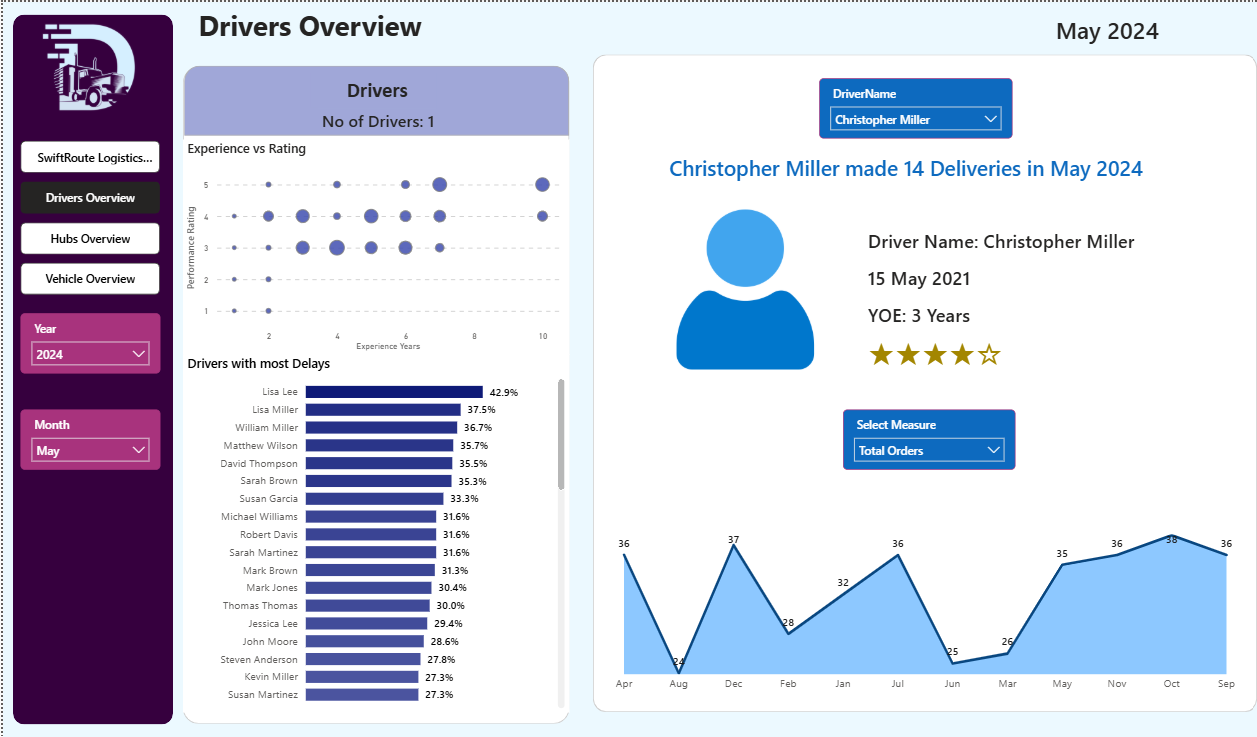

This screenshot's page, from the dashboard's own definition file:
{"tool":"powerbi","page":{"name":"Drivers Overview","canvas":[1450,850],"ordinal":1},"visuals":[{"type":"shape","box":[11.5,14.4,184.8,820],"z":0},{"type":"textbox","box":[220.7,0,503.6,60.6],"z":1000},{"type":"slicer","fields":{"Values":["Date Table.Year"]},"box":[20.2,360.1,161.7,70],"z":2000},{"type":"slicer","fields":{"Values":["Date Table.Month"]},"box":[20.2,470.4,161.7,70],"z":3000},{"type":"cardVisual","fields":{"Data":["Hubs.No of Hubs"]},"box":[298.2,94.7,190.6,52],"z":4000},{"type":"shape","box":[208.3,74.6,446.1,758.6],"z":5000},{"type":"shape","box":[209.9,73.1,444.6,80.8],"z":6000},{"type":"textbox","box":[354.5,81.7,116.9,39],"z":7000},{"type":"cardVisual","fields":{"Data":["Drivers.No of Drivers"]},"box":[337.3,94.8,191.2,82.4],"z":8000},{"type":"textbox","box":[363.7,82.4,136.8,40.4],"z":9000},{"type":"scatterChart","title":"Experience vs Rating","fields":{"X":["Drivers.Experience Years"],"Y":["Drivers.Performance Rating"],"Size":["Sum(Drivers.Experience Years)1"]},"box":[208.3,158.6,446.1,248.7],"z":10000},{"type":"barChart","title":"Drivers with most Delays","fields":{"Category":["Drivers.DriverName"],"Y":["Orders.Delayed Delivery Rate"]},"box":[208.3,407.3,446.1,413.5],"z":11000},{"type":"image","box":[23.3,14,153.9,130.6],"z":12000},{"type":"cardVisual","fields":{"Data":["Orders.Year Month Title"]},"box":[1142.5,0,267.4,60.6],"z":13000},{"type":"shape","box":[681.4,60.6,768,759.3],"z":14000},{"type":"slicer","fields":{"Values":["Drivers.DriverName"]},"box":[942.1,88.3,223.1,69.7],"z":15000},{"type":"cardVisual","fields":{"Data":["Drivers.Drivers Title"]},"box":[743.5,158.8,599.1,63.5],"z":16000},{"type":"cardVisual","fields":{"Data":["Drivers.Driver Name Title","Min(Drivers.Hire Date)","Drivers.YOE","Drivers.Star Rating"]},"box":[970.1,239.6,372.5,200.7],"z":17000},{"type":"image","box":[744.9,239.6,225.2,184.8],"z":18000},{"type":"areaChart","fields":{"Y":["Orders.Total Orders"],"Category":["Date Table.Month Abr"]},"box":[687.2,602,756.5,203.6],"z":19000},{"type":"slicer","fields":{"Values":["Select Measure.Select Measure"]},"box":[970.1,470.6,199.2,69.3],"z":20000},{"type":"pageNavigator","box":[20.2,160.2,161.7,181.9],"z":21000}]}

Visuals, with their boxes in screenshot pixels (x1, y1, x2, y2), scaled from the page's 1450x850 canvas onto the 1257x737 screenshot:
shape: 10:12:170:723
textbox: 191:0:628:53
slicer - Date Table.Year: 18:312:158:373
slicer - Date Table.Month: 18:408:158:469
cardVisual - Hubs.No of Hubs: 259:82:424:127
shape: 181:65:567:722
shape: 182:63:567:133
textbox: 307:71:409:105
cardVisual - Drivers.No of Drivers: 292:82:458:154
textbox: 315:71:434:106
"Experience vs Rating" scatterChart: 181:138:567:353
"Drivers with most Delays" barChart: 181:353:567:712
image: 20:12:154:125
cardVisual - Orders.Year Month Title: 990:0:1222:53
shape: 591:53:1256:711
slicer - Drivers.DriverName: 817:77:1010:137
cardVisual - Drivers.Drivers Title: 645:138:1164:193
cardVisual - Drivers.Driver Name Title x Min(Drivers.Hire Date): 841:208:1164:382
image: 646:208:841:368
areaChart - Orders.Total Orders x Date Table.Month Abr: 596:522:1252:699
slicer - Select Measure.Select Measure: 841:408:1014:468
pageNavigator: 18:139:158:297
